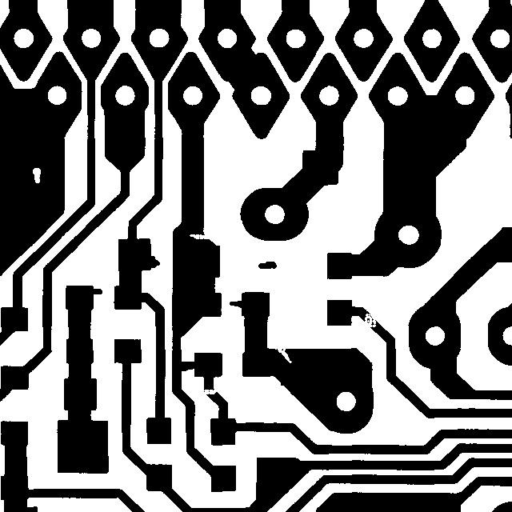copper: (250, 254, 284, 276)
mousebite: (266, 338, 299, 370), (182, 226, 218, 246)
open: (357, 306, 383, 334), (194, 382, 227, 402)
pin-hole: (25, 160, 48, 190)
short: (169, 354, 211, 378)
spur: (138, 248, 167, 276), (222, 293, 255, 317), (82, 281, 110, 302)
